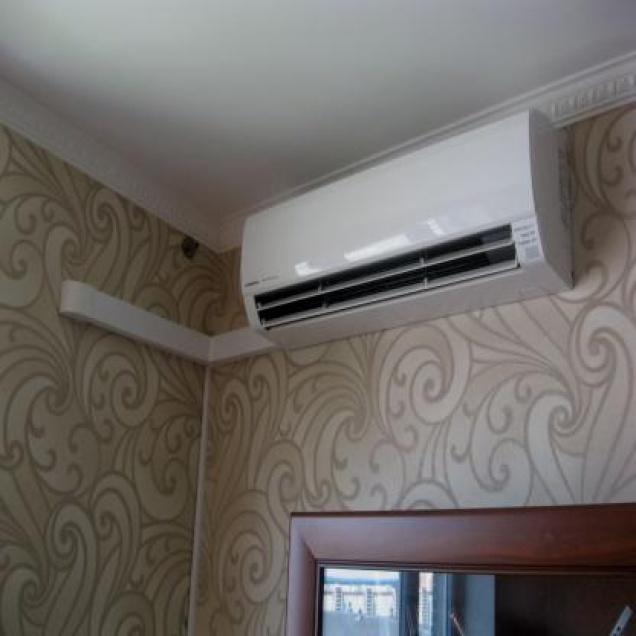AC: (237, 105, 574, 355)
